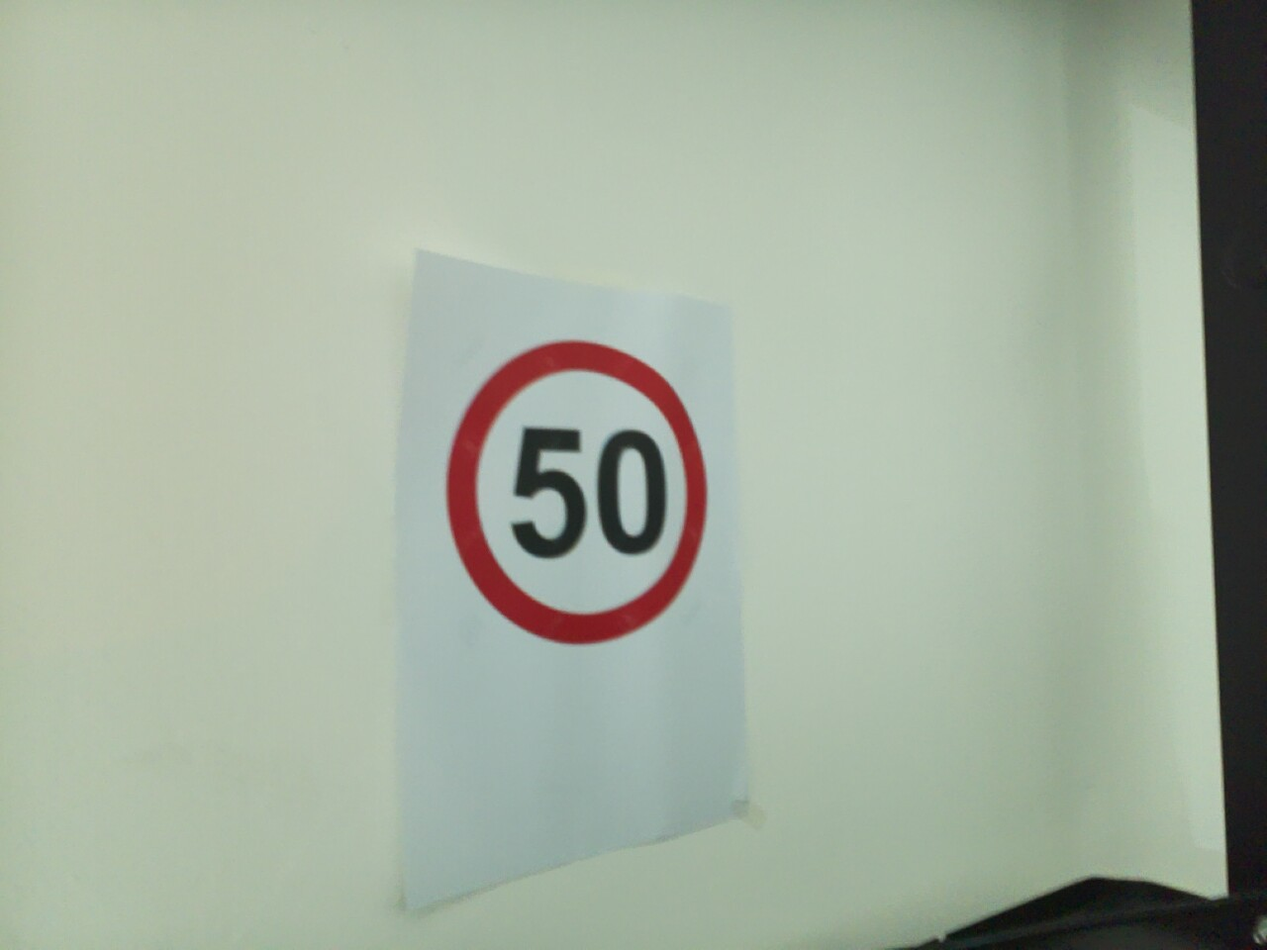speed_50: (438, 331, 717, 654)
